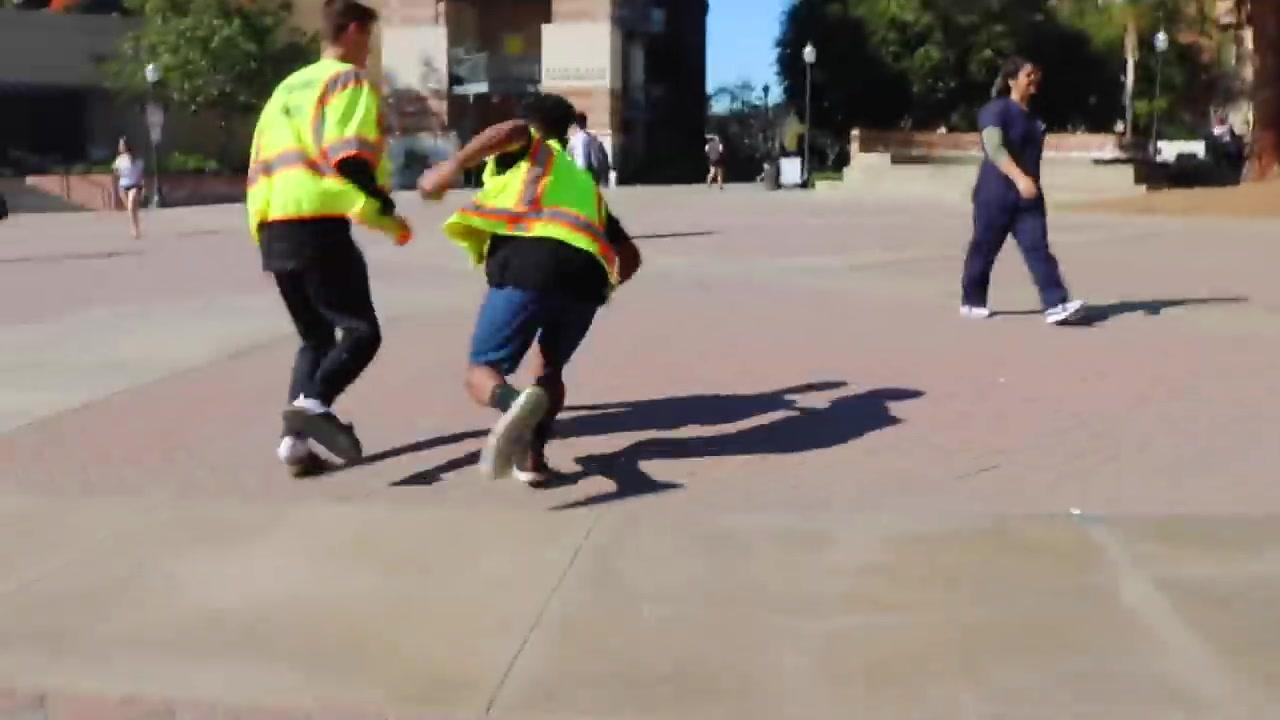vest: (246, 58, 410, 246), (440, 121, 618, 284)
